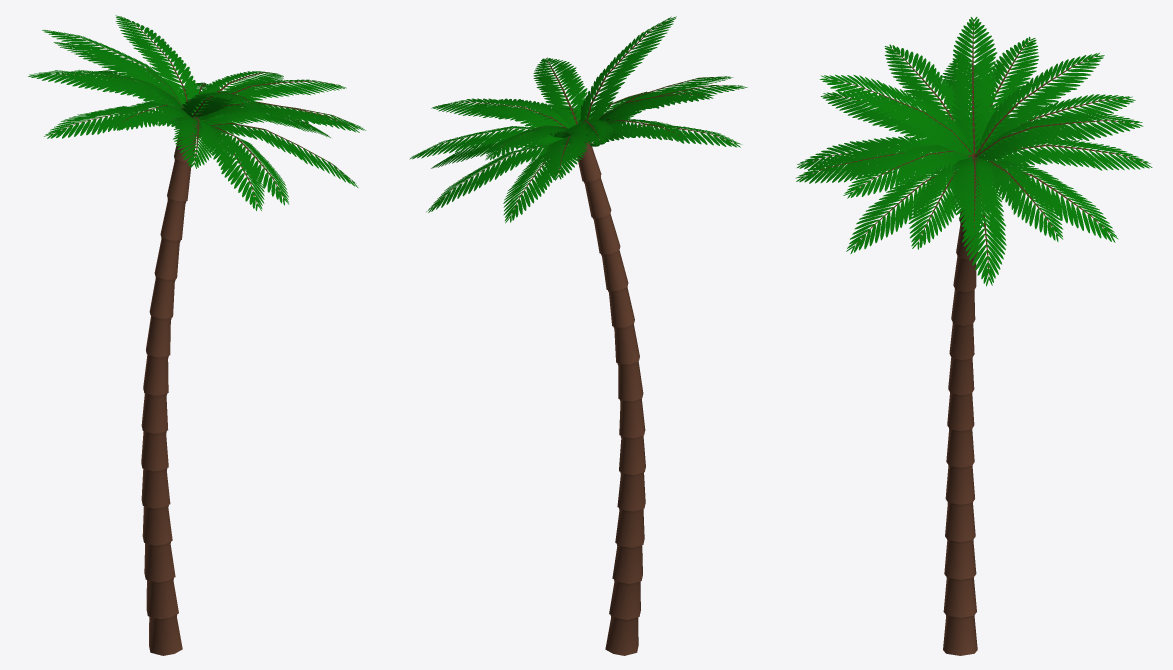
The model's file is tree2.fbx.
3 renders of one model, left to right at view 1: azimuth 30°, elevation 25°; view 2: azimuth 150°, elevation 25°; view 3: azimuth 270°, elevation 25°, orthographic.
Parts seen in each view (by area): view 1: Palm_LOD0; view 2: Palm_LOD0; view 3: Palm_LOD0.
Boxes of the visible parts, x1,y1,x2,y2 form: Palm_LOD0: [28, 15, 365, 655]; Palm_LOD0: [409, 16, 747, 655]; Palm_LOD0: [795, 17, 1152, 655].
Size of what is drawn, in the model's own units: 5.38 by 9.52 by 5.44.
